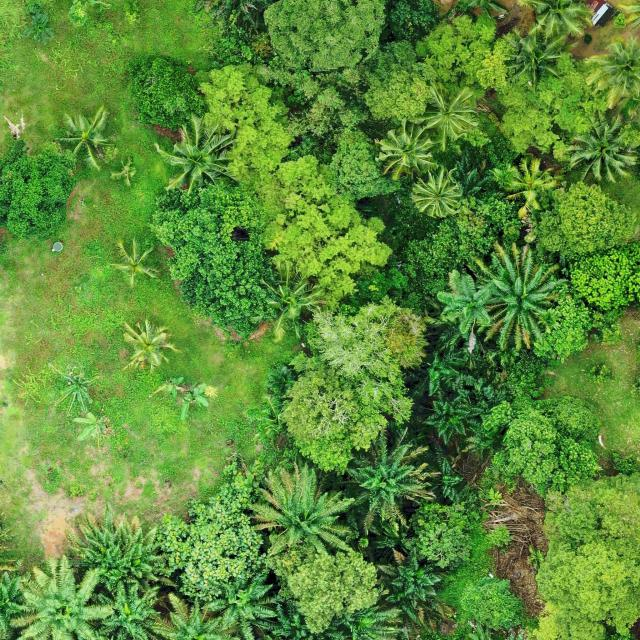Tree: (285, 296, 426, 474), (254, 154, 393, 308), (150, 181, 286, 336), (533, 467, 640, 640), (476, 35, 606, 158), (156, 468, 264, 597), (530, 240, 640, 363), (396, 193, 522, 298), (482, 393, 600, 499), (62, 502, 181, 605), (194, 61, 298, 177), (464, 240, 564, 357), (244, 468, 356, 563), (5, 551, 115, 640), (260, 0, 392, 72), (340, 434, 437, 531), (285, 544, 379, 637), (0, 138, 76, 242), (534, 181, 640, 254), (245, 260, 328, 347), (152, 114, 235, 197), (415, 11, 499, 87), (203, 558, 280, 640), (358, 38, 430, 121), (500, 24, 581, 90), (130, 54, 198, 131), (566, 115, 639, 185), (581, 34, 640, 110), (409, 501, 472, 568), (375, 118, 438, 183), (421, 82, 479, 150), (59, 105, 117, 171), (120, 313, 182, 373), (377, 546, 442, 602), (436, 267, 497, 325), (421, 388, 481, 444), (414, 338, 469, 398), (515, 0, 594, 39), (505, 158, 561, 213), (111, 236, 160, 288), (412, 168, 462, 218)
